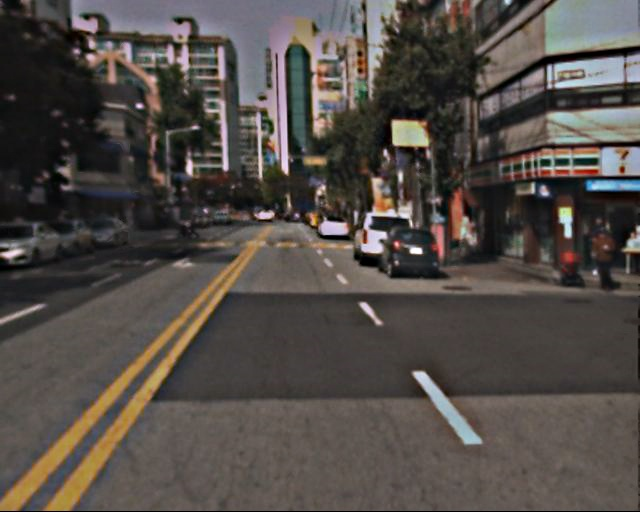person: (589, 219, 621, 291), (192, 208, 208, 238)
